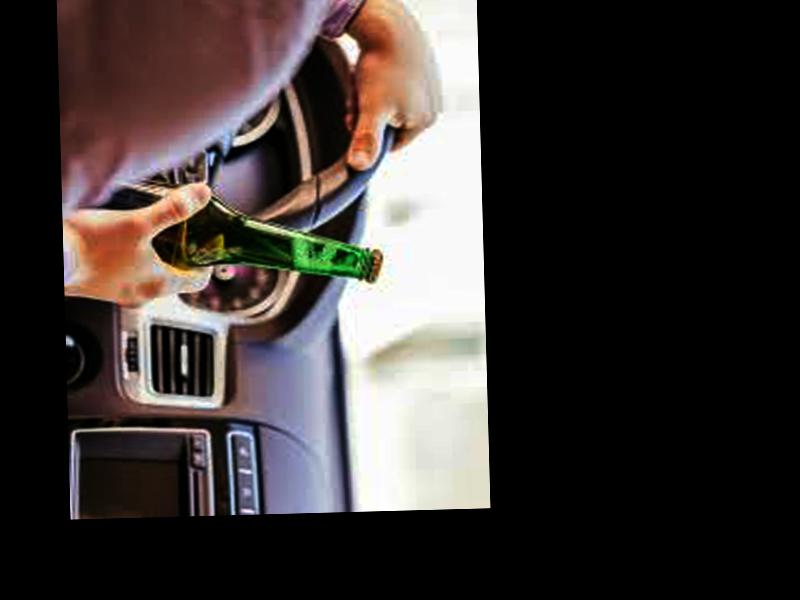Beer: (74, 168, 385, 292)
